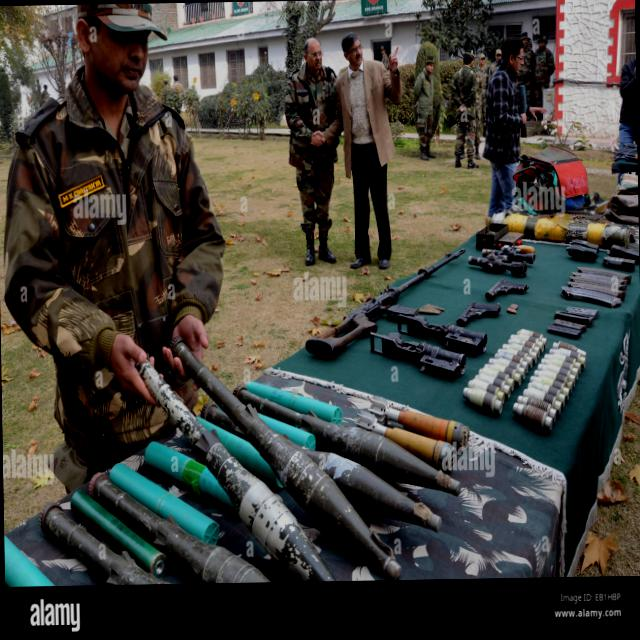handgun: (457, 301, 505, 326), (482, 278, 534, 300)
long weapon: (304, 246, 464, 376)
